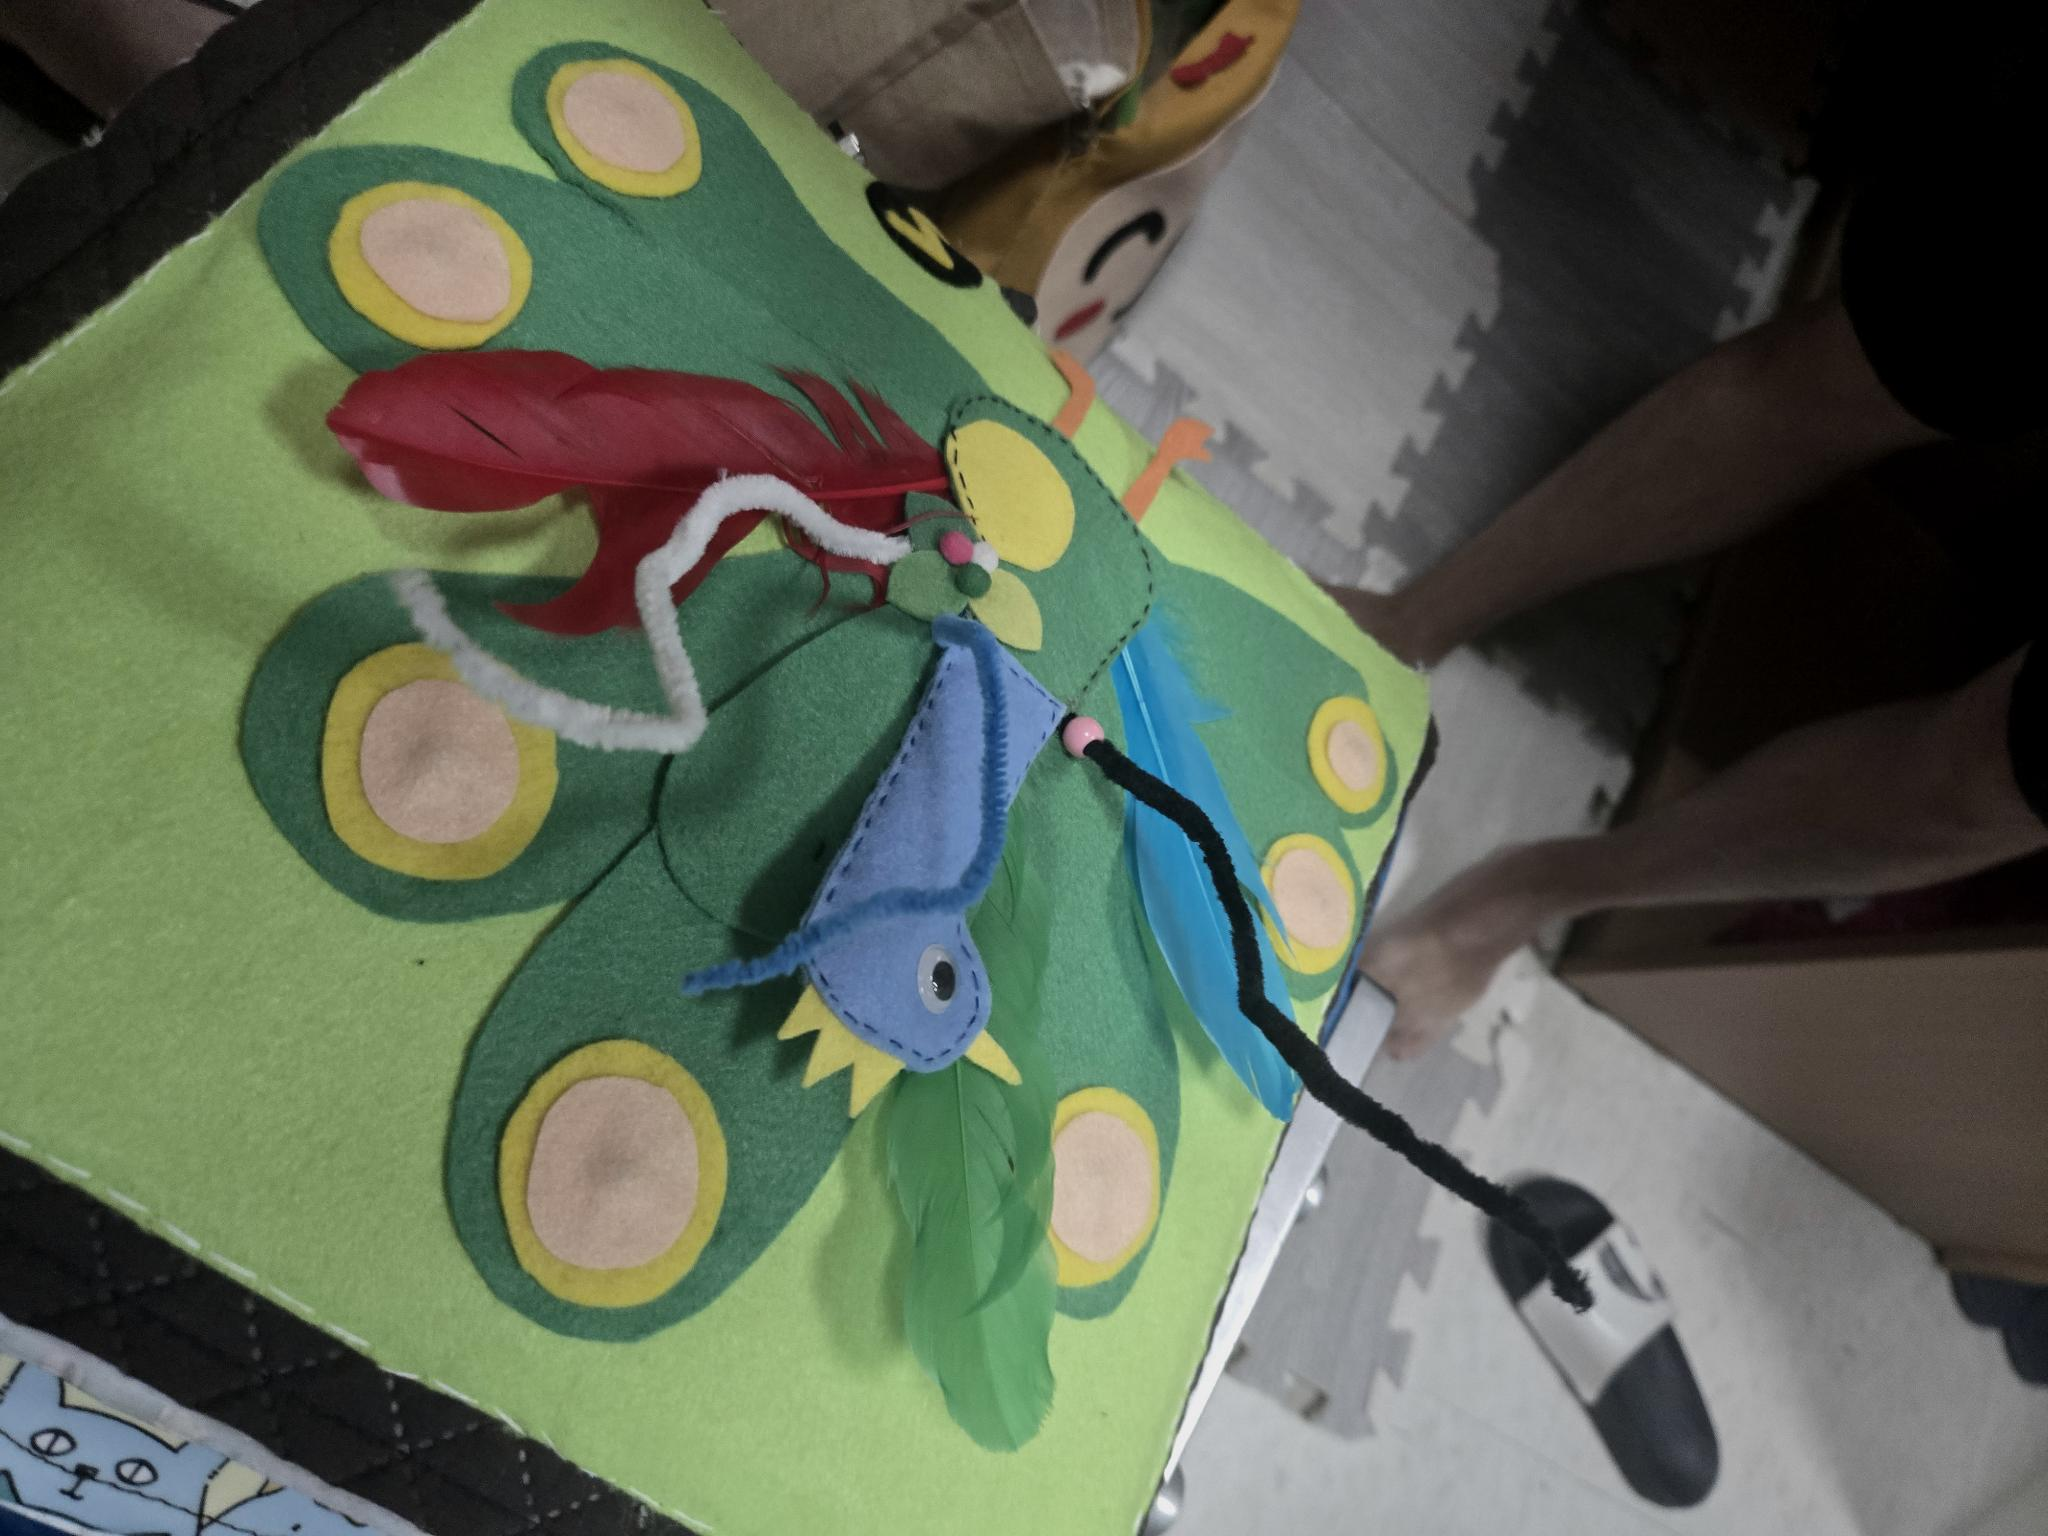bead: (1059, 710, 1113, 770)
